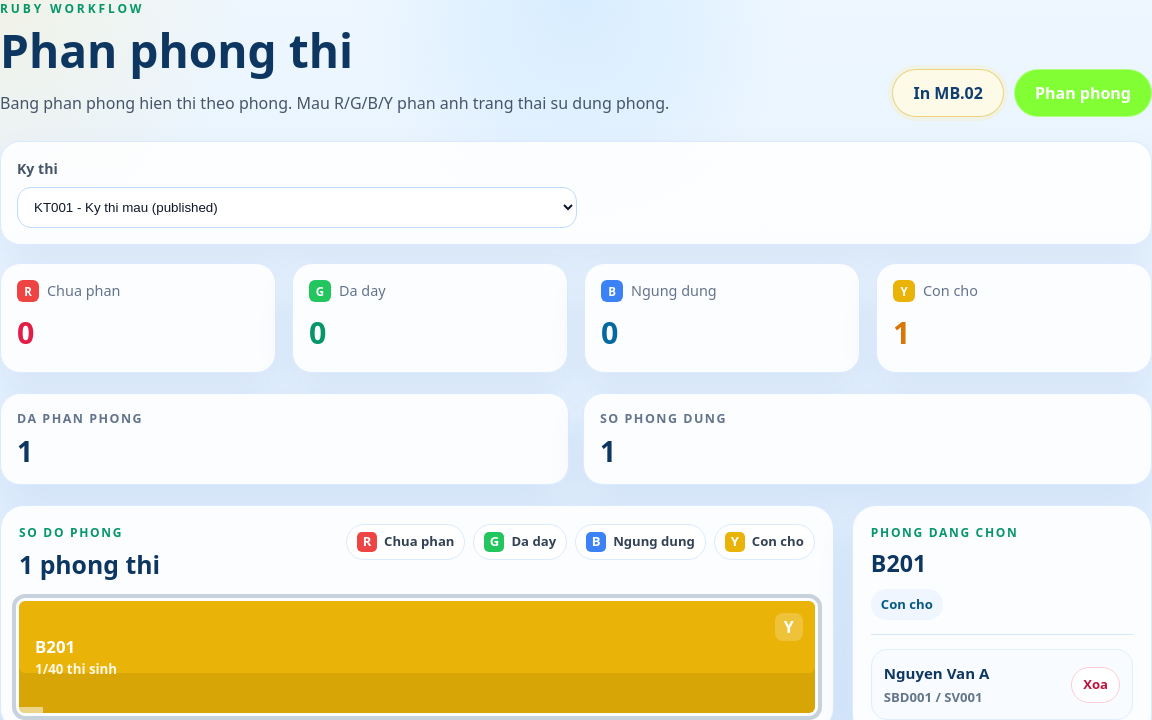
RoomAssignmentPage › opens manual assignment dialog
Click the button "Phan phong" at [1083, 93], box [1014,69,1151,117]
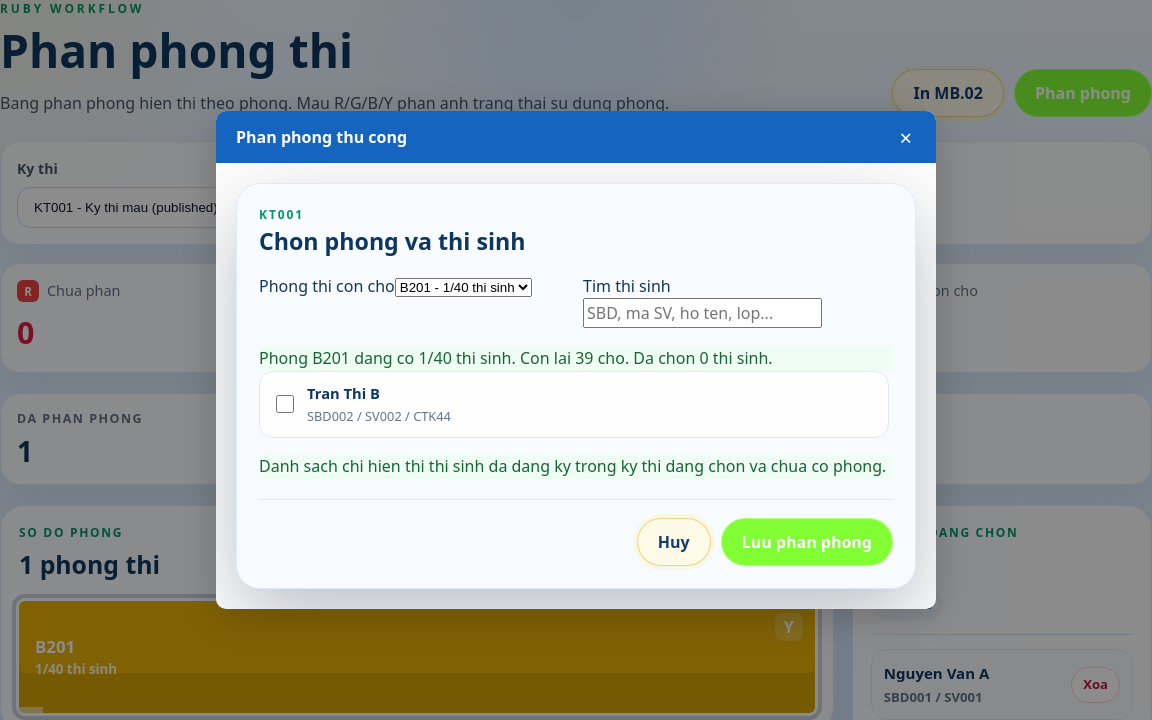
Expected: the text "Phan phong thu cong" is shown, [236,125,407,149]
Expected: the text "Tran Thi B" is shown, [307,383,380,403]
